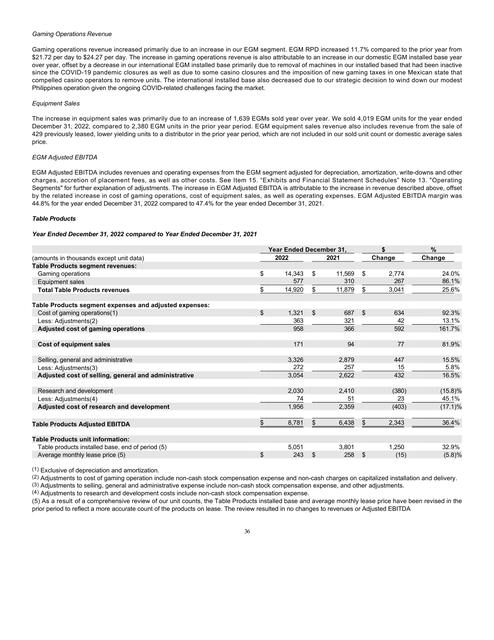box: (31, 245, 463, 461)
